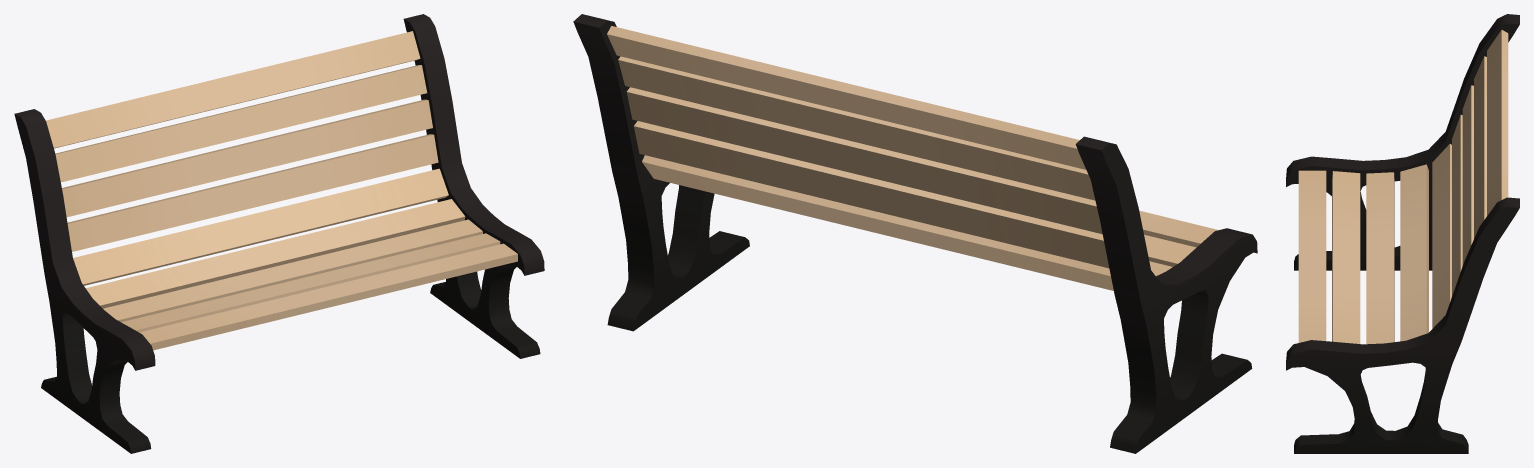
Rendered from bank.fbx.
3 views of the same model, side by side, from view 1: azimuth 30°, elevation 25°; view 2: azimuth 150°, elevation 25°; view 3: azimuth 270°, elevation 25° (orthographic). The views are drawn at different scales.
Parts seen in each view (by area): view 1: bank; view 2: bank; view 3: bank.
Part boxes in pixels (box(x1,y1,x2,y2)): bank: box(14, 14, 544, 453); bank: box(573, 14, 1257, 453); bank: box(1286, 14, 1519, 453).
Bounding box in the file's own units: 288 × 172 × 148.
